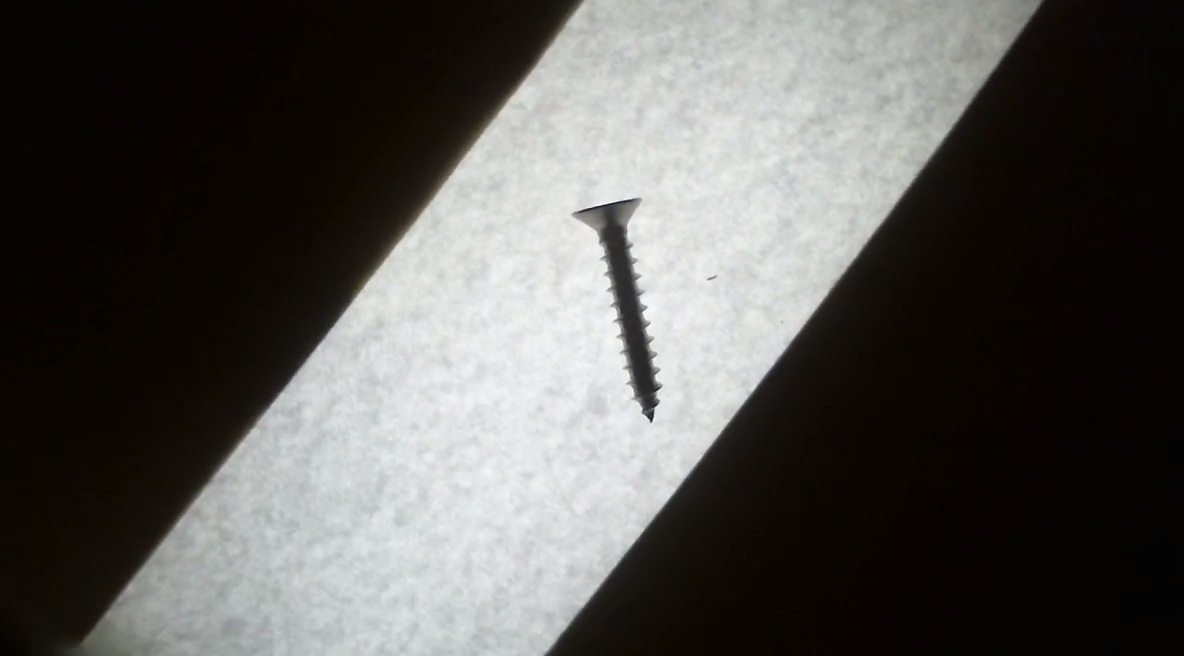S001: (551, 186, 696, 444)
